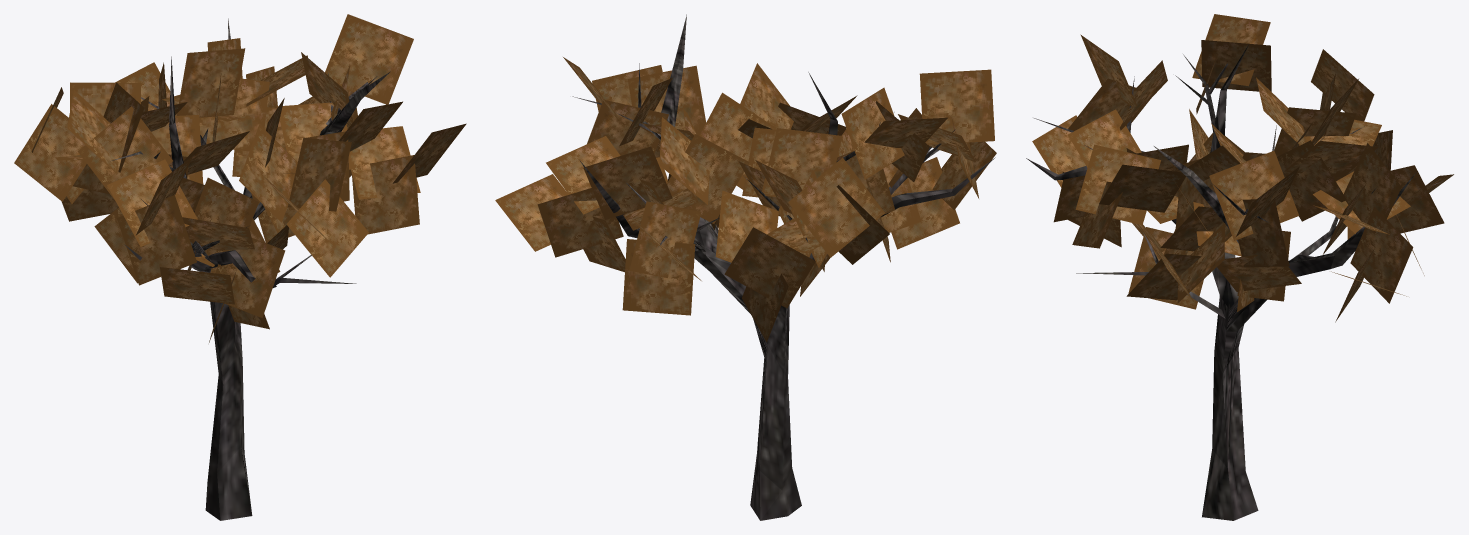
File: stree1.fbx
The picture shows the model from 3 angles, left to right: view 1: azimuth 30°, elevation 25°; view 2: azimuth 150°, elevation 25°; view 3: azimuth 270°, elevation 25°; orthographic projection. The views are drawn at different scales.
Parts seen in each view (by area): view 1: stree1; view 2: stree1; view 3: stree1.
Boxes of the visible parts, x1=… form: stree1: x1=14, y1=14, x2=466, y2=520; stree1: x1=495, y1=14, x2=996, y2=520; stree1: x1=1026, y1=14, x2=1453, y2=520.
Size of the model in its own units: 1077 by 1244 by 1082.
